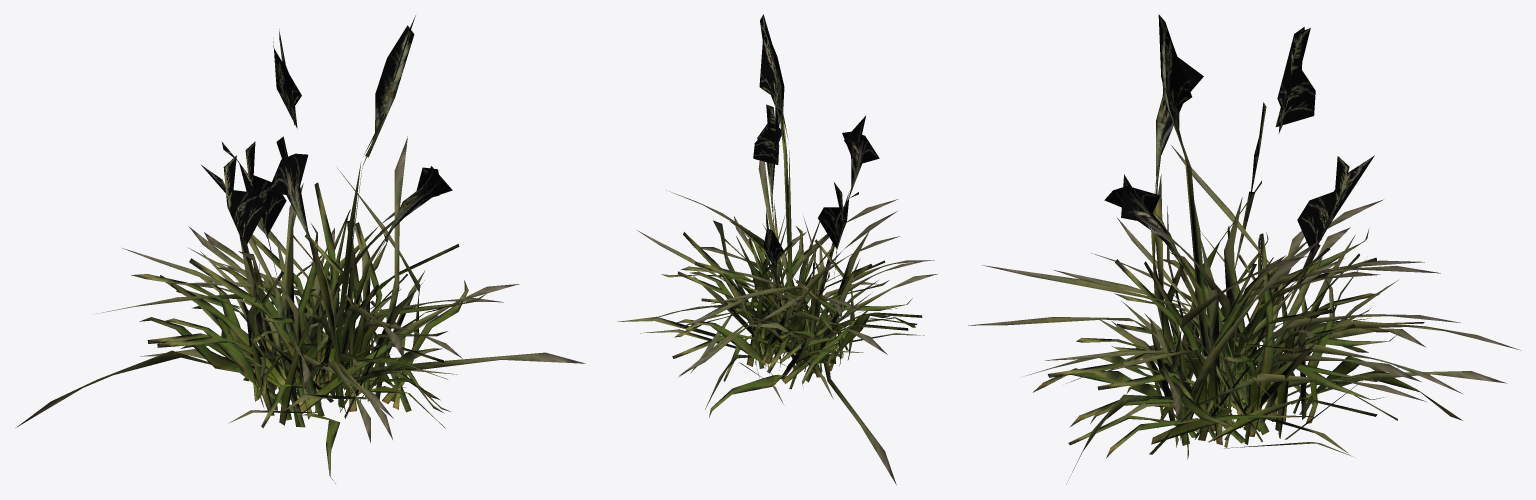
Rendered from grass_medium_01_v4.glb.
The picture shows the model from 3 angles, left to right: view 1: azimuth 30°, elevation 25°; view 2: azimuth 150°, elevation 25°; view 3: azimuth 270°, elevation 25°; orthographic projection. The views are drawn at different scales.
Visible parts, largest first — view 1: lod0; view 2: lod0; view 3: lod0.
Boxes of the visible parts, x1=… form: lod0: x1=16, y1=15, x2=585, y2=483; lod0: x1=617, y1=14, x2=937, y2=484; lod0: x1=968, y1=14, x2=1520, y2=484.
Size of what is drawn, in the model's own units: 0.2168 by 0.2164 by 0.2211.
Materials: 1 (1 with a texture image).
